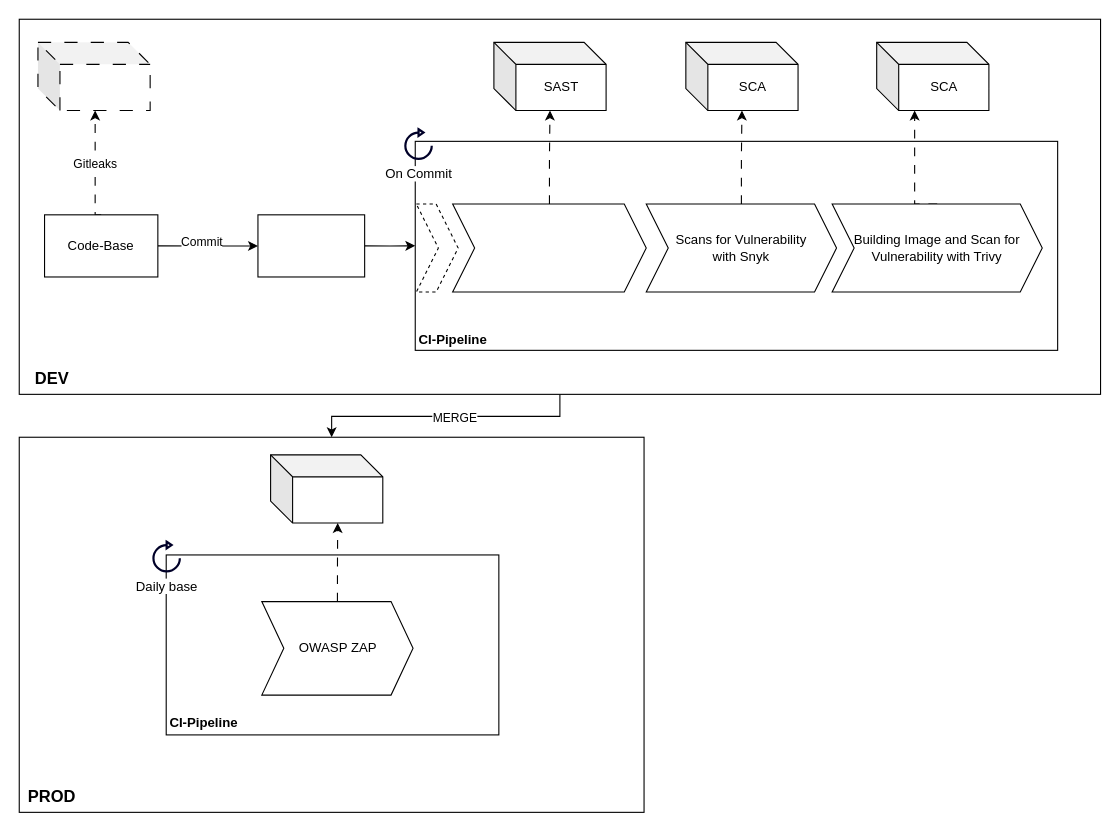
This 1120x832 diagram has some shape labels left out. The shapes that lost their labels are listed below. From the top down, each one's centre as x and y in pixels, then its label:
[93,76]: Security Hygiene
[311,245]: Repository
[436,247]: pre stepts
[549,247]: Scanning Source Code statically with SonarQube
[326,488]: DAST
